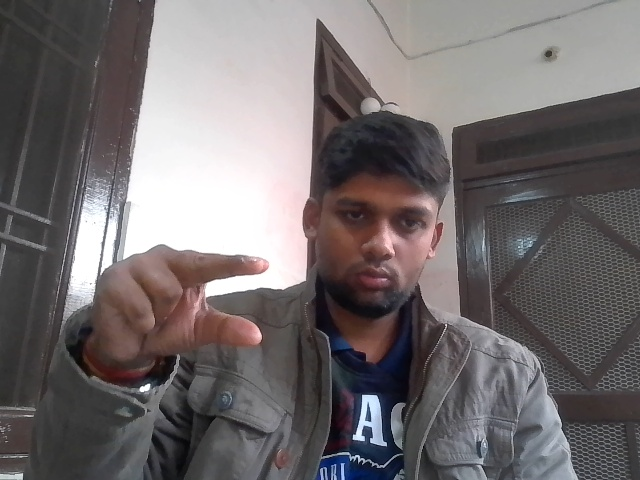No: (88, 249, 292, 369)
